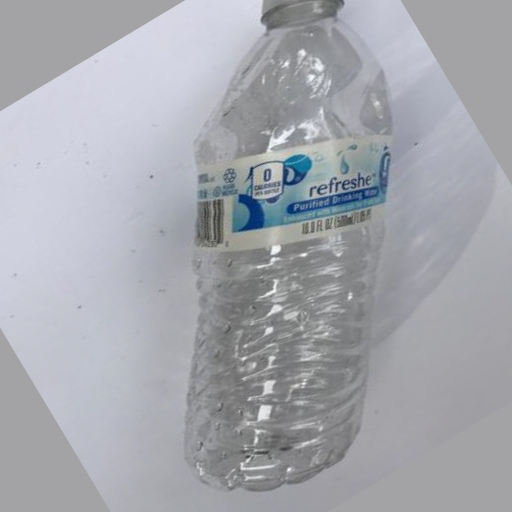Plastic_0: (188, 2, 390, 486)
